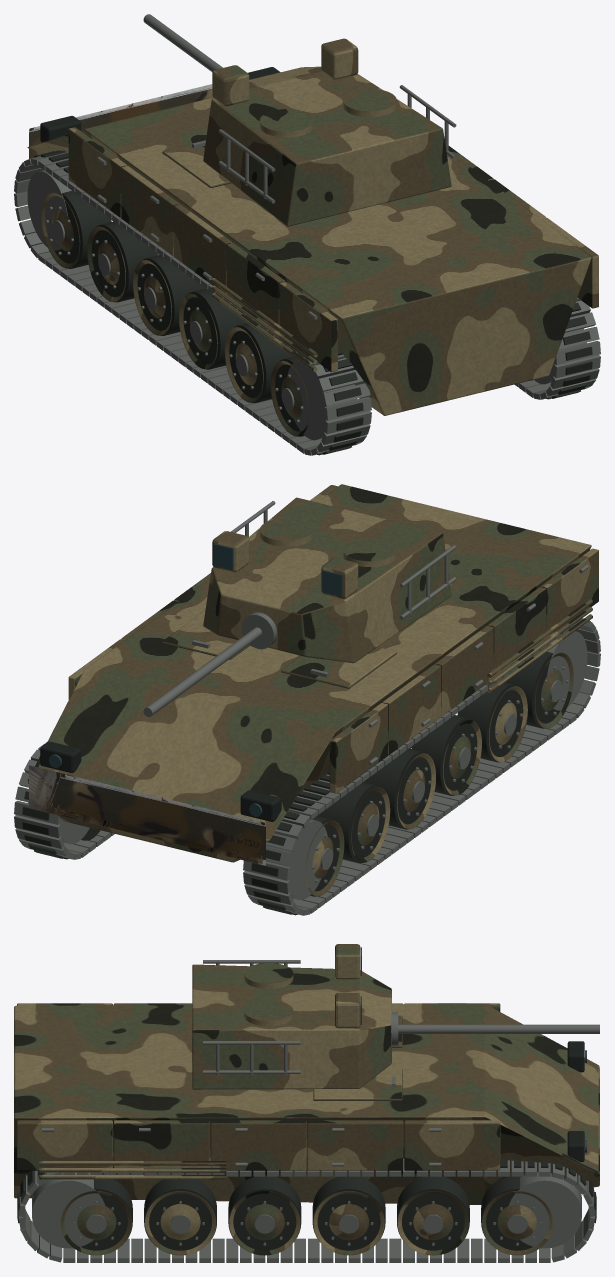
The model's file is k21-referenced-v2.glb.
3 renders of one model, top to bottom at view 1: azimuth 30°, elevation 25°; view 2: azimuth 150°, elevation 25°; view 3: azimuth 270°, elevation 25°, orthographic. The views are drawn at different scales.
Visible parts, largest first — view 1: Hull_Authored Korean camouflage, Turret_Authored Korean camouflage, Track_-1_Exposed steel, Track_-1_Rubber, Track_-1_Authored Korean camouflage, Track_1_Exposed steel, Hull_K21 photo trim vane photo material, Turret_Exposed steel, Track_1_Rubber, Gun_Exposed steel, Hull_Recess; view 2: Hull_Authored Korean camouflage, Turret_Authored Korean camouflage, Track_-1_Exposed steel, Track_-1_Rubber, Hull_K21 photo trim vane photo material, Track_-1_Authored Korean camouflage, Track_1_Exposed steel, Gun_Exposed steel, Hull_Recess, Turret_Exposed steel, Track_1_Rubber, Turret_Optical glass (+1 smaller); view 3: Hull_Authored Korean camouflage, Turret_Authored Korean camouflage, Track_1_Exposed steel, Track_1_Rubber, Track_1_Authored Korean camouflage, Gun_Exposed steel, Turret_Exposed steel, Hull_Recess, Hull_Exposed steel.
Part boxes in pixels (x1=…): Hull_Authored Korean camouflage: x1=27, y1=97, x2=598, y2=415; Turret_Authored Korean camouflage: x1=203, y1=38, x2=451, y2=226; Track_-1_Exposed steel: x1=14, y1=152, x2=371, y2=455; Track_-1_Rubber: x1=34, y1=150, x2=363, y2=455; Track_-1_Authored Korean camouflage: x1=41, y1=192, x2=309, y2=436; Track_1_Exposed steel: x1=514, y1=298, x2=600, y2=399; Hull_K21 photo trim vane photo material: x1=29, y1=84, x2=212, y2=158; Turret_Exposed steel: x1=218, y1=85, x2=456, y2=203; Track_1_Rubber: x1=531, y1=302, x2=592, y2=399; Gun_Exposed steel: x1=143, y1=14, x2=222, y2=72; Hull_Recess: x1=40, y1=67, x2=280, y2=147; Hull_Authored Korean camouflage: x1=27, y1=484, x2=598, y2=862; Turret_Authored Korean camouflage: x1=203, y1=497, x2=451, y2=663; Track_-1_Exposed steel: x1=243, y1=618, x2=600, y2=915; Track_-1_Rubber: x1=251, y1=652, x2=559, y2=915; Hull_K21 photo trim vane photo material: x1=29, y1=765, x2=265, y2=865; Track_-1_Authored Korean camouflage: x1=305, y1=652, x2=573, y2=896; Track_1_Exposed steel: x1=14, y1=741, x2=114, y2=859; Gun_Exposed steel: x1=143, y1=612, x2=277, y2=716; Hull_Recess: x1=40, y1=741, x2=281, y2=821; Turret_Exposed steel: x1=231, y1=501, x2=456, y2=619; Track_1_Rubber: x1=22, y1=783, x2=100, y2=859; Turret_Optical glass: x1=213, y1=543, x2=342, y2=596; Hull_Authored Korean camouflage: x1=14, y1=1003, x2=599, y2=1204; Turret_Authored Korean camouflage: x1=192, y1=944, x2=391, y2=1089; Track_1_Exposed steel: x1=18, y1=1157, x2=595, y2=1262; Track_1_Rubber: x1=17, y1=1156, x2=596, y2=1250; Track_1_Authored Korean camouflage: x1=60, y1=1191, x2=553, y2=1255; Gun_Exposed steel: x1=392, y1=1012, x2=599, y2=1046; Turret_Exposed steel: x1=203, y1=960, x2=300, y2=1075; Hull_Recess: x1=567, y1=1041, x2=584, y2=1161; Hull_Exposed steel: x1=42, y1=1077, x2=441, y2=1166.
Size of the model in its own units: 3.49 by 2.99 by 6.91.
Materials: 6 (2 with a texture image).
